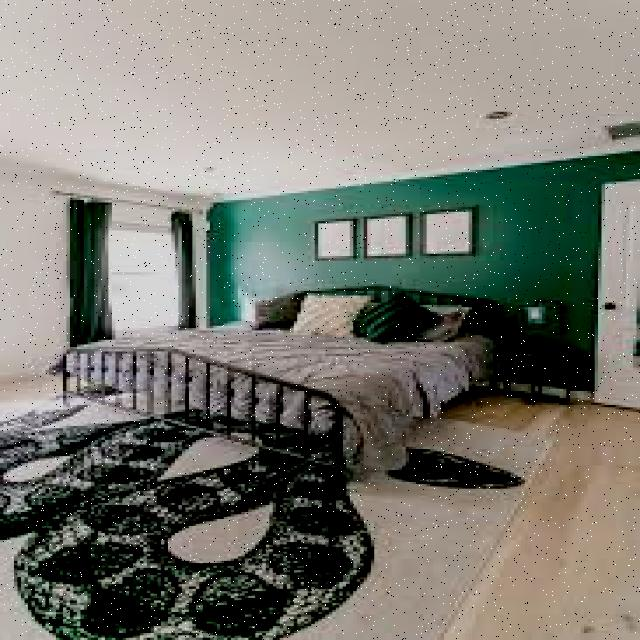bed: (50, 277, 509, 449)
